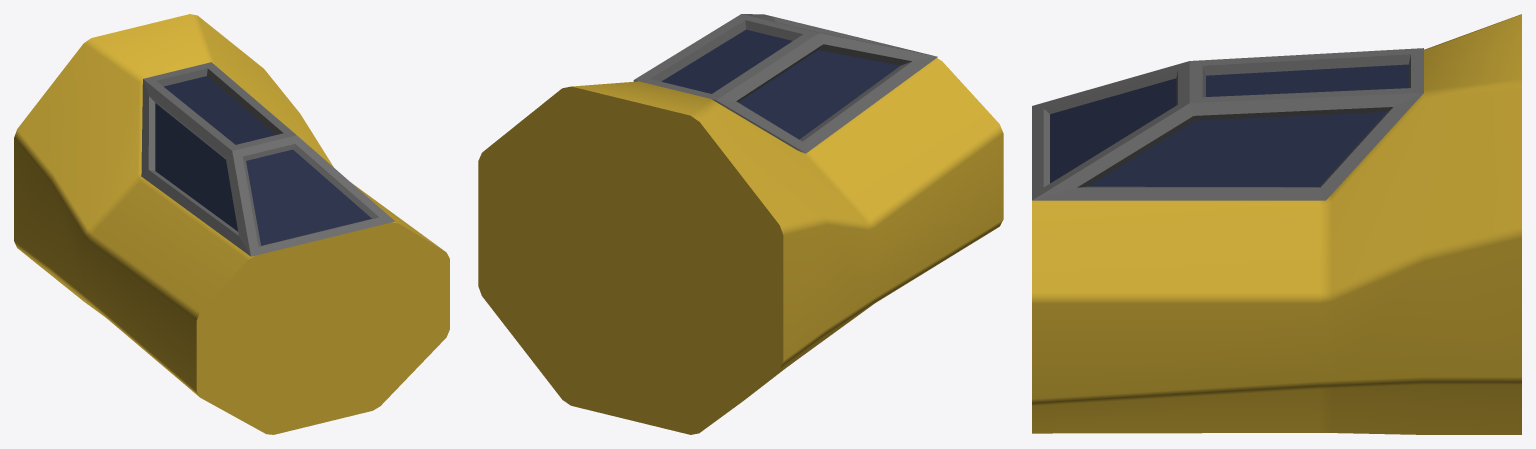
File: Lowpoly_Cockpit.fbx
The picture shows the model from 3 angles, left to right: view 1: azimuth 30°, elevation 25°; view 2: azimuth 150°, elevation 25°; view 3: azimuth 270°, elevation 25°; orthographic projection. The views are drawn at different scales.
Parts seen in each view (by area): view 1: Cockpit; view 2: Cockpit; view 3: Cockpit.
Boxes of the visible parts, box(x1,y1,x2,y2) form: Cockpit: box(14, 14, 449, 434); Cockpit: box(478, 14, 1003, 434); Cockpit: box(1032, 14, 1521, 434).
Bounding box in the file's own units: 200 × 200 × 250.
